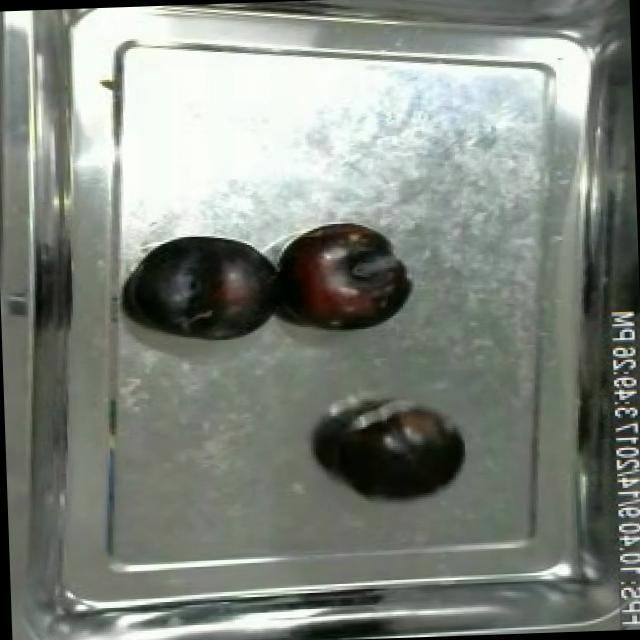Fruit: (116, 225, 294, 353), (264, 215, 420, 338), (313, 401, 470, 508)
